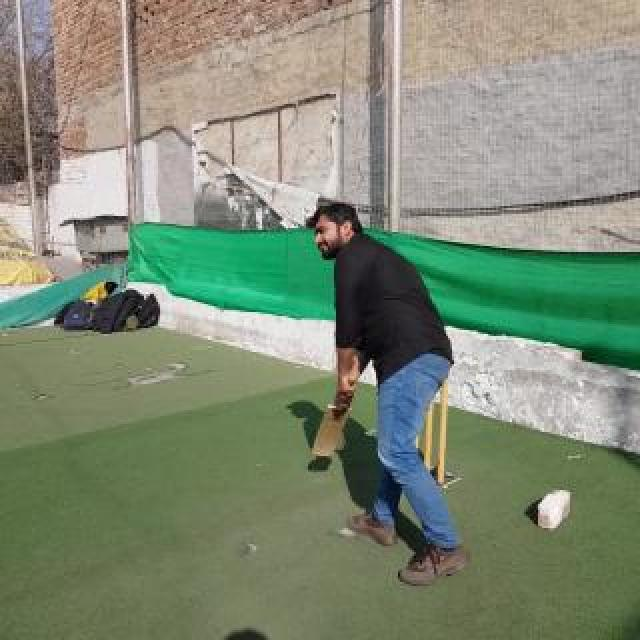bat: (311, 372, 357, 458)
